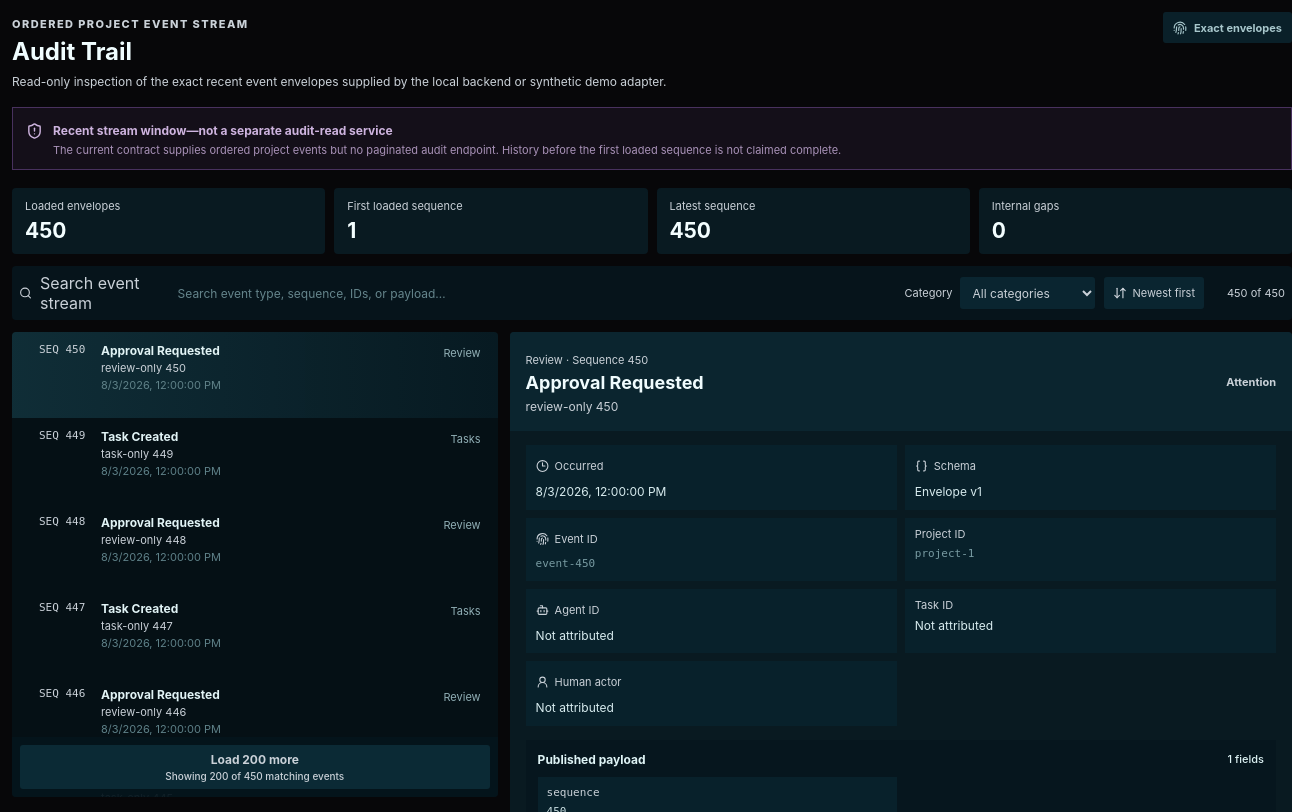
AuditTrailSurface pagination › renders two hundred rows at a time, keeps total filter counts, and resets the window when its inputs change
This screenshot has width=1292, height=812.
Later steps or results of the test are not shown.
Expected: the text "450 of 450" is shown, 1227,286 -> 1285,300
Click the button "Load 200 more Showing 200 of 450 matching events": click(255, 767) 20,745 -> 490,789
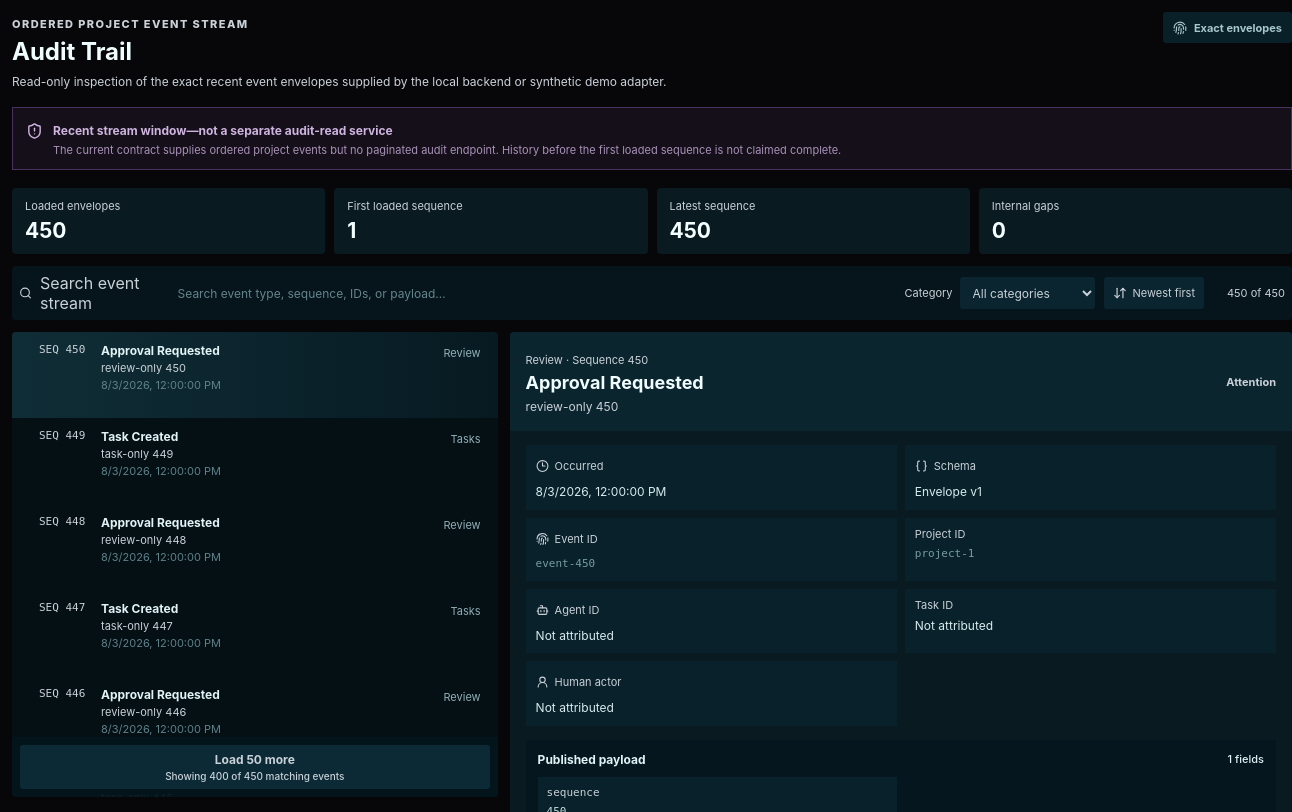
Now the button "Load 50 more Showing 400 of 450 matching events" is shown, box 20,745 -> 490,789
In the field with placeholder "Search event type, sequence, IDs, or payload…": (531, 293) 176,276 -> 886,310, type "review-only"
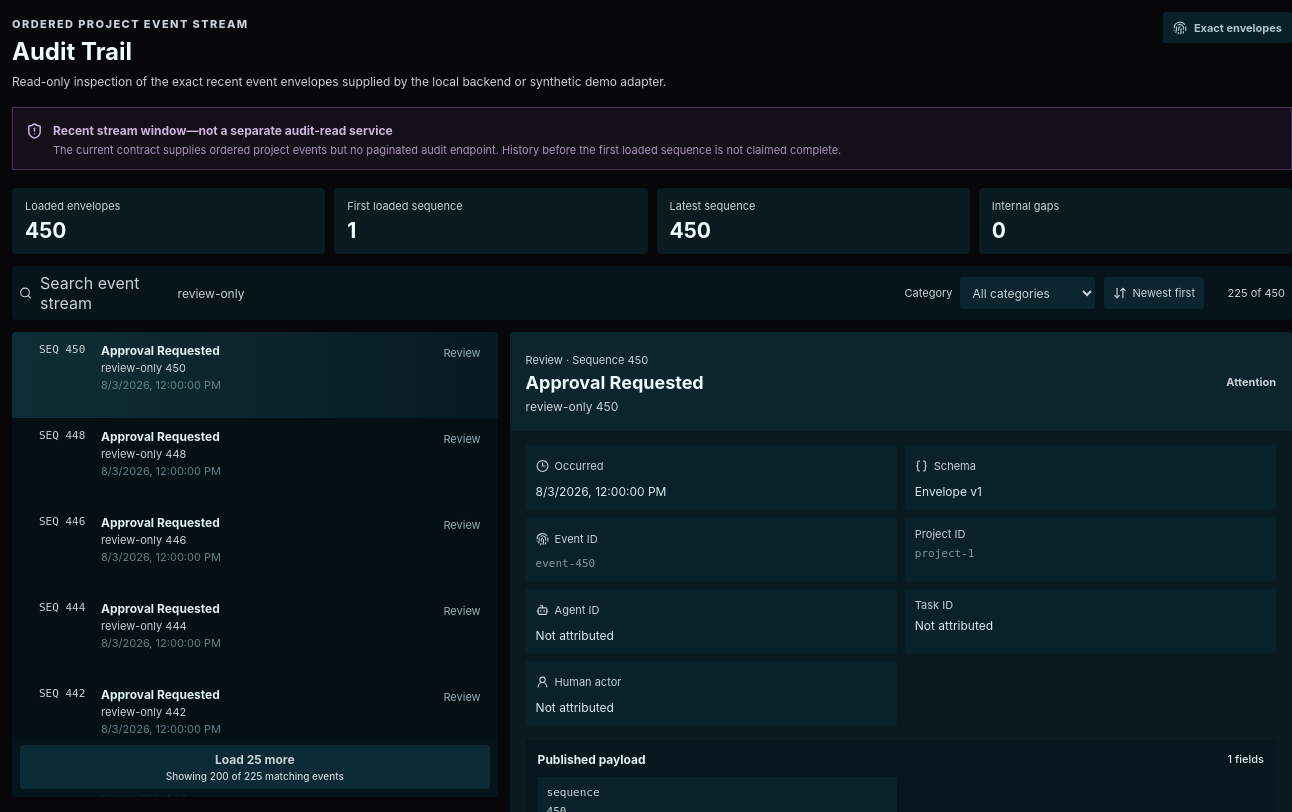
Now the text "225 of 450" is shown, box 1228,286 -> 1285,300
Now the button "Load 25 more Showing 200 of 225 matching events" is shown, box 20,745 -> 490,789
Clear the field with placeholder "Search event type, sequence, IDs, or payload…": (531, 293) 176,276 -> 886,310
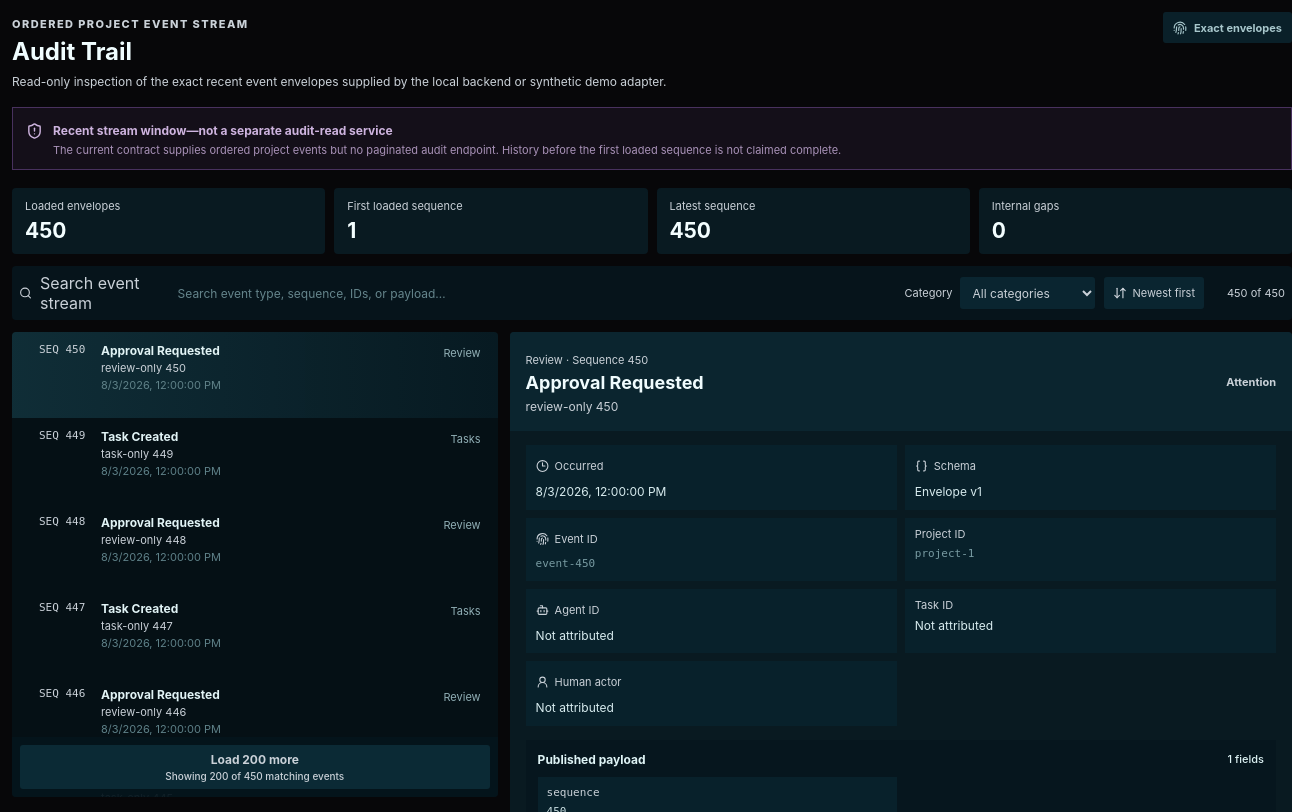
Click the button "Load 200 more Showing 200 of 450 matching events": click(255, 767) 20,745 -> 490,789
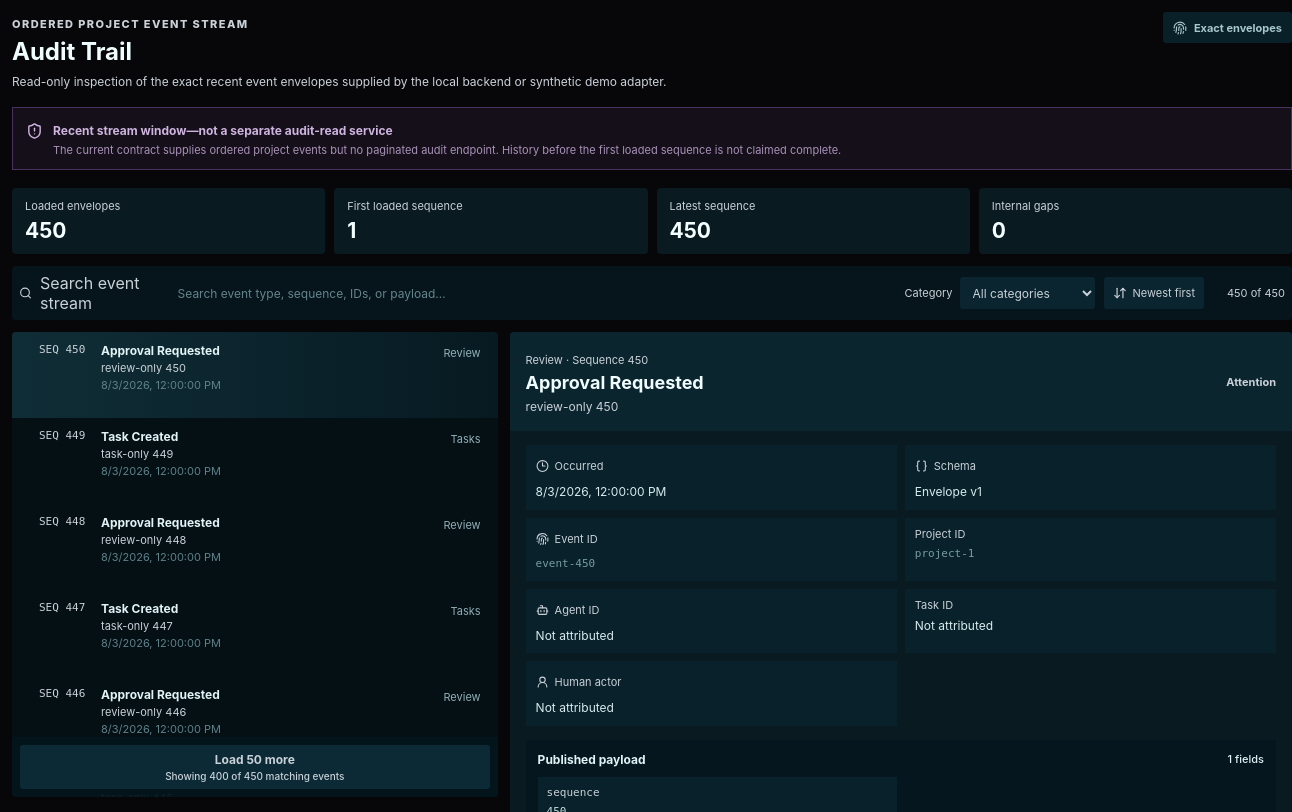
Click the button "Newest first": click(1154, 293) 1104,277 -> 1204,309
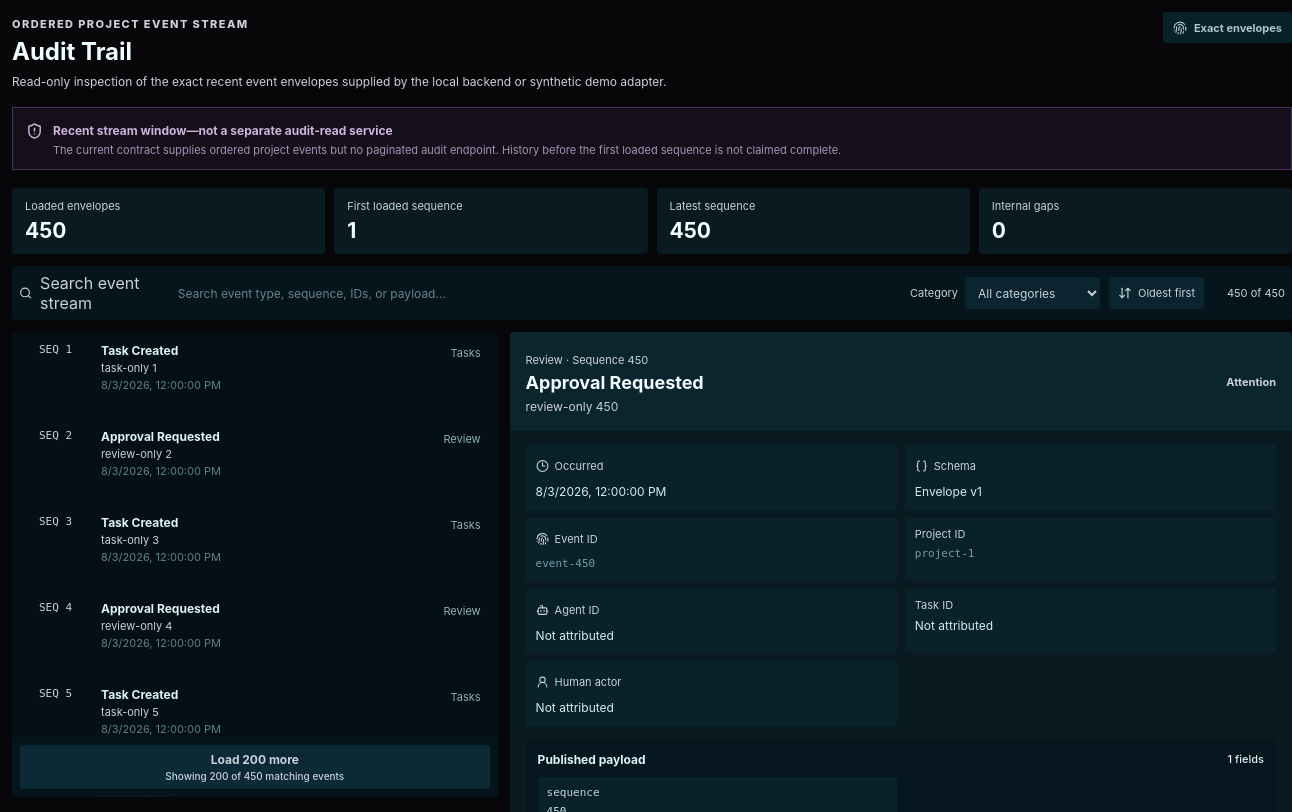
Now the list item "SEQ 1 Task Created task-only 1 8/3/2026, 12:00:00 PM Tasks" is shown, box 12,332 -> 498,418
